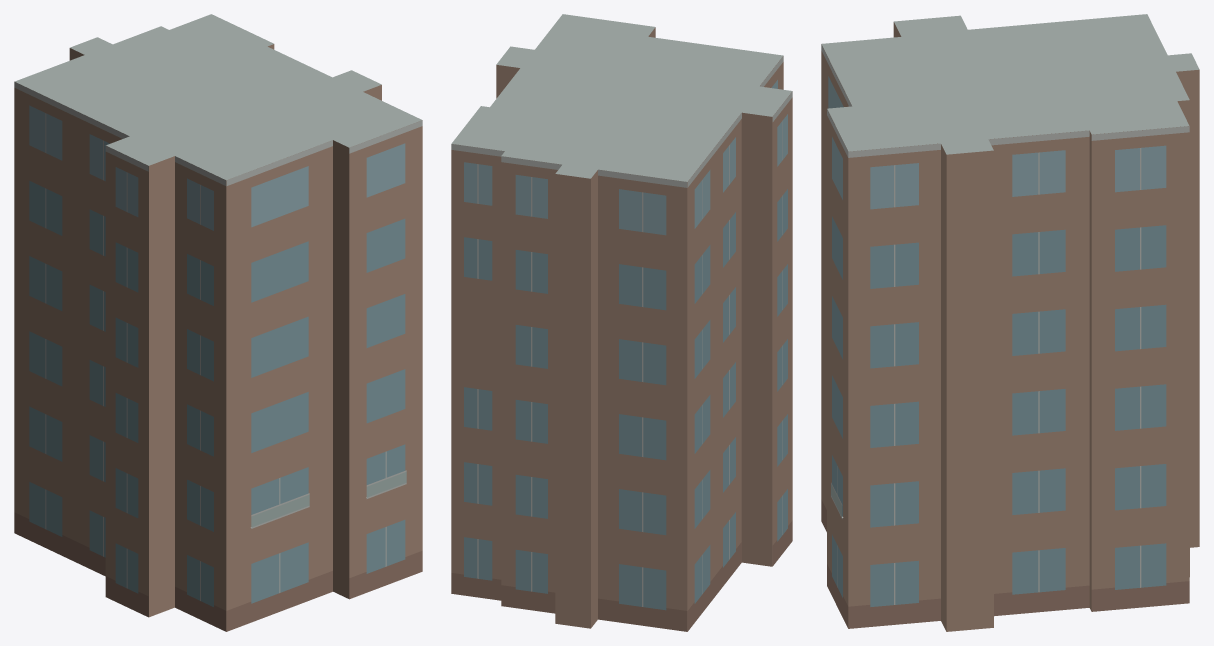
File: survey-upis-32658371.glb
3 views of the same model, side by side, from view 1: azimuth 30°, elevation 25°; view 2: azimuth 150°, elevation 25°; view 3: azimuth 270°, elevation 25° (orthographic). The views are drawn at different scales.
Parts seen in each view (by area): view 1: survey-upis-32658371.tmp; view 2: survey-upis-32658371.tmp; view 3: survey-upis-32658371.tmp.
Boxes of the visible parts, bbox=[...] form: survey-upis-32658371.tmp: bbox=[14, 14, 422, 631]; survey-upis-32658371.tmp: bbox=[451, 14, 792, 631]; survey-upis-32658371.tmp: bbox=[821, 14, 1199, 631].
Bounding box in the file's own units: 11.57 × 18.3 × 13.15.
